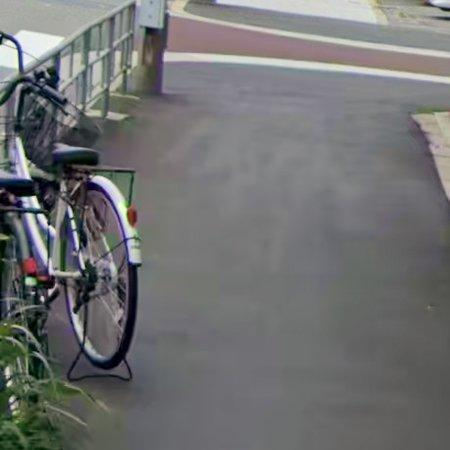bicycles: (0, 137, 142, 369)
